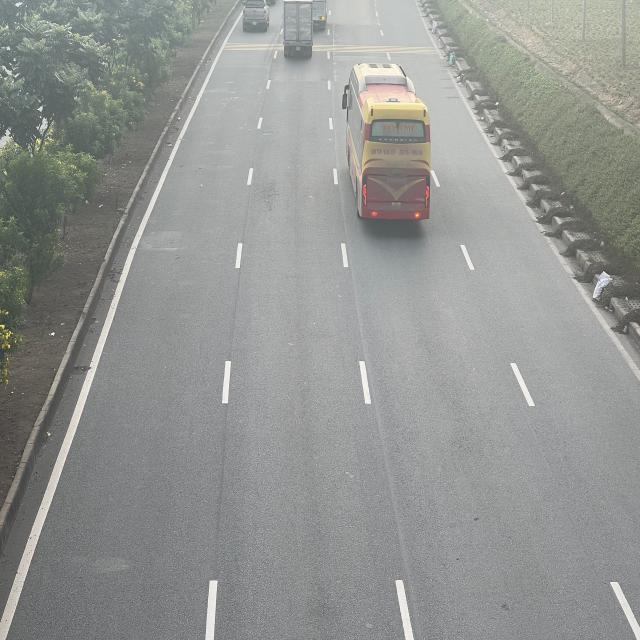car: (241, 0, 271, 32)
coach: (341, 62, 430, 224)
truck: (282, 1, 312, 58)
